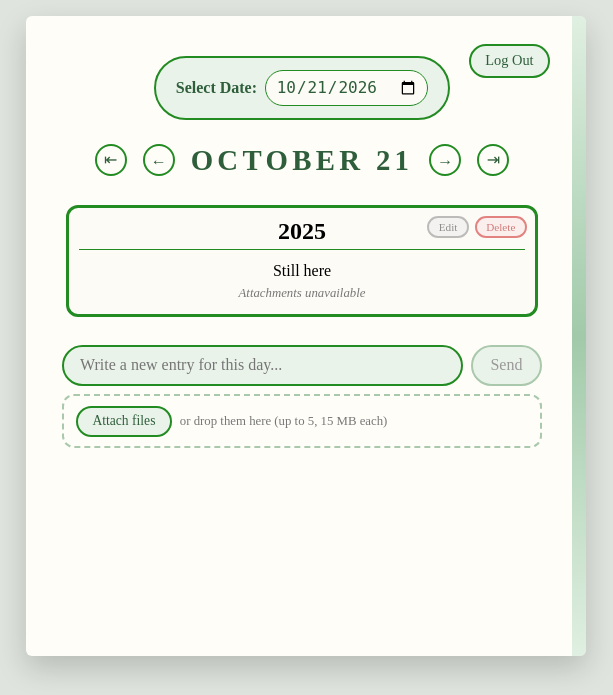
Scenario: JournalApp › failure isolation › renders entries with a note when attachments are unavailable
expect the text "Still here" is shown: met, box [79,258,525,283]
expect the text "Attachments unavailable" is shown: met, box [238,286,365,300]
Click the button "Edit" at x=448, y=227, box [427,216,469,238]
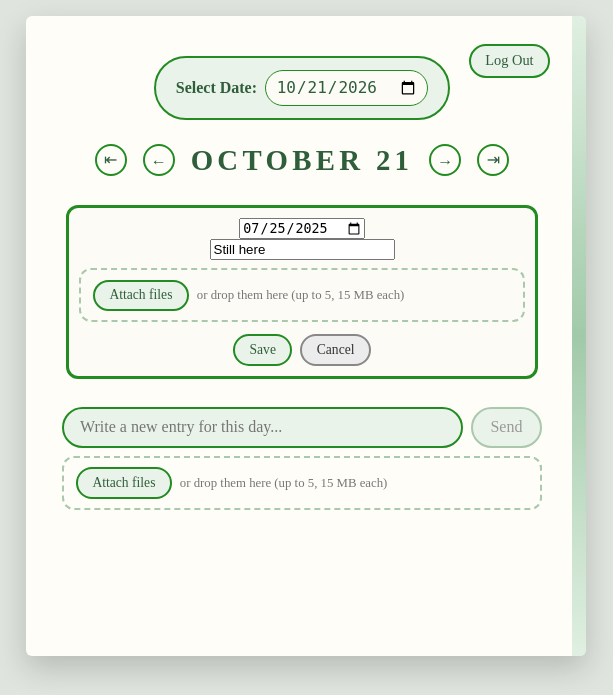
expect the field showing "Still here" is shown: met, box [210,239,394,260]
